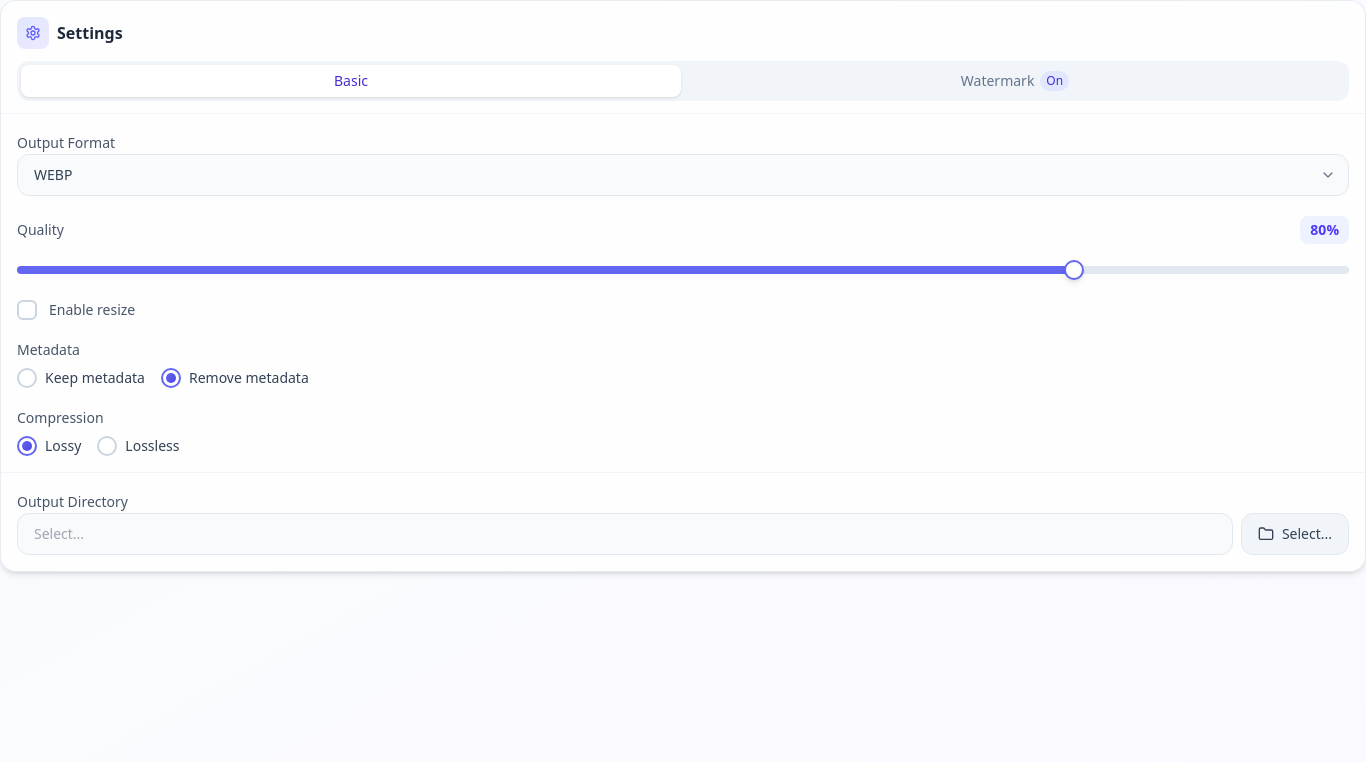
Scenario: SettingsPanel › ウォーターマーク › 種類は文字か画像のどちらか一方で、切り替えても配置は保たれる
Click the tab "Watermark On". click: (1015, 81)
box: [685,65,1345,97]
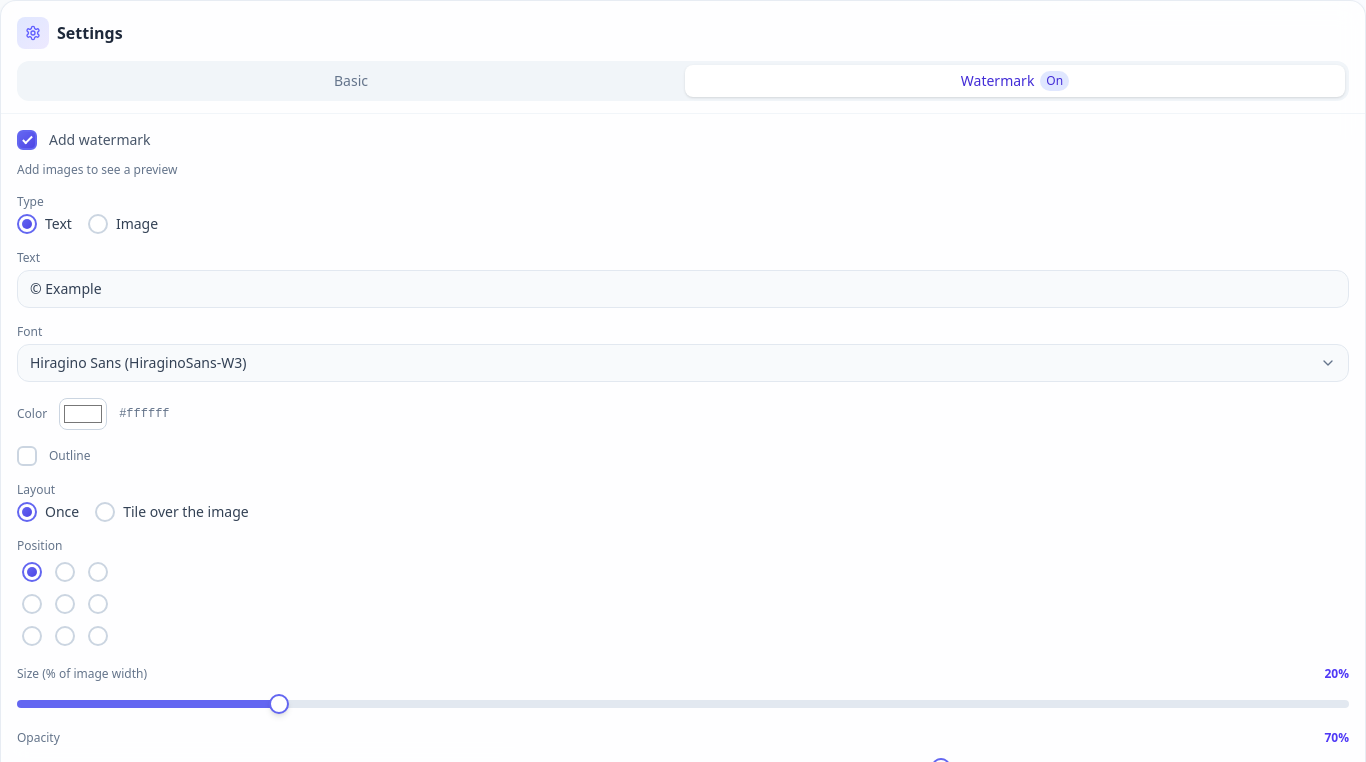
Click the radio button labelled "Image". click: (98, 224)
box: [88,214,108,234]
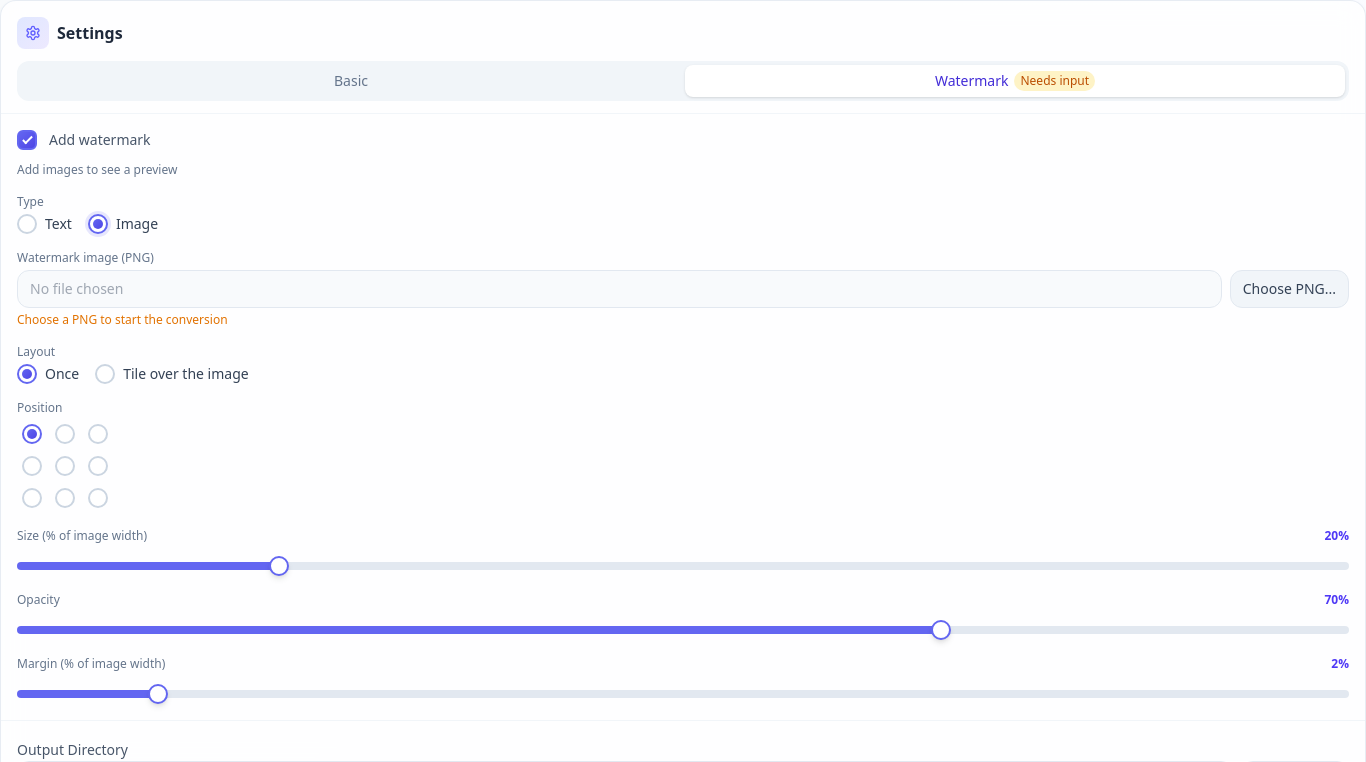
Expected: the radio button labelled "Text" is not checked, [17,214,37,234]
Expected: the button "Choose PNG..." is shown, [1230,270,1349,308]
